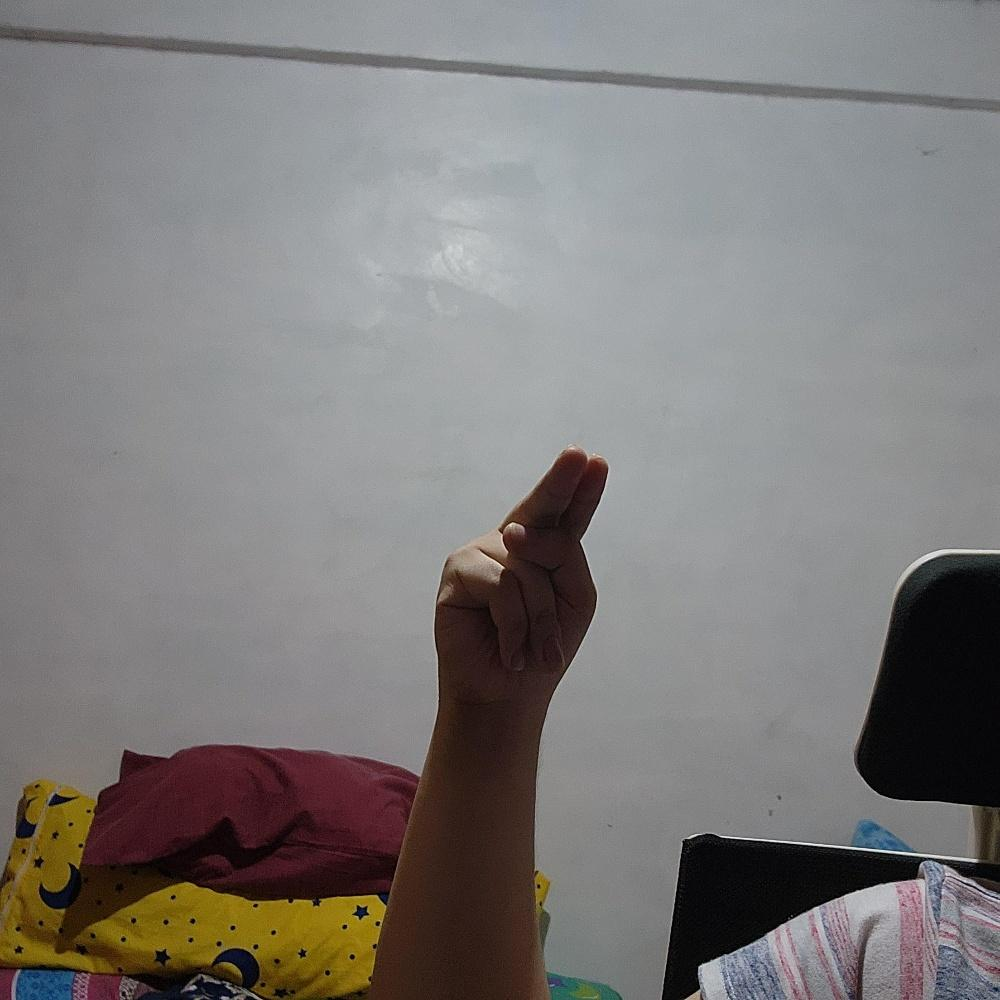n: (432, 444, 609, 715)
